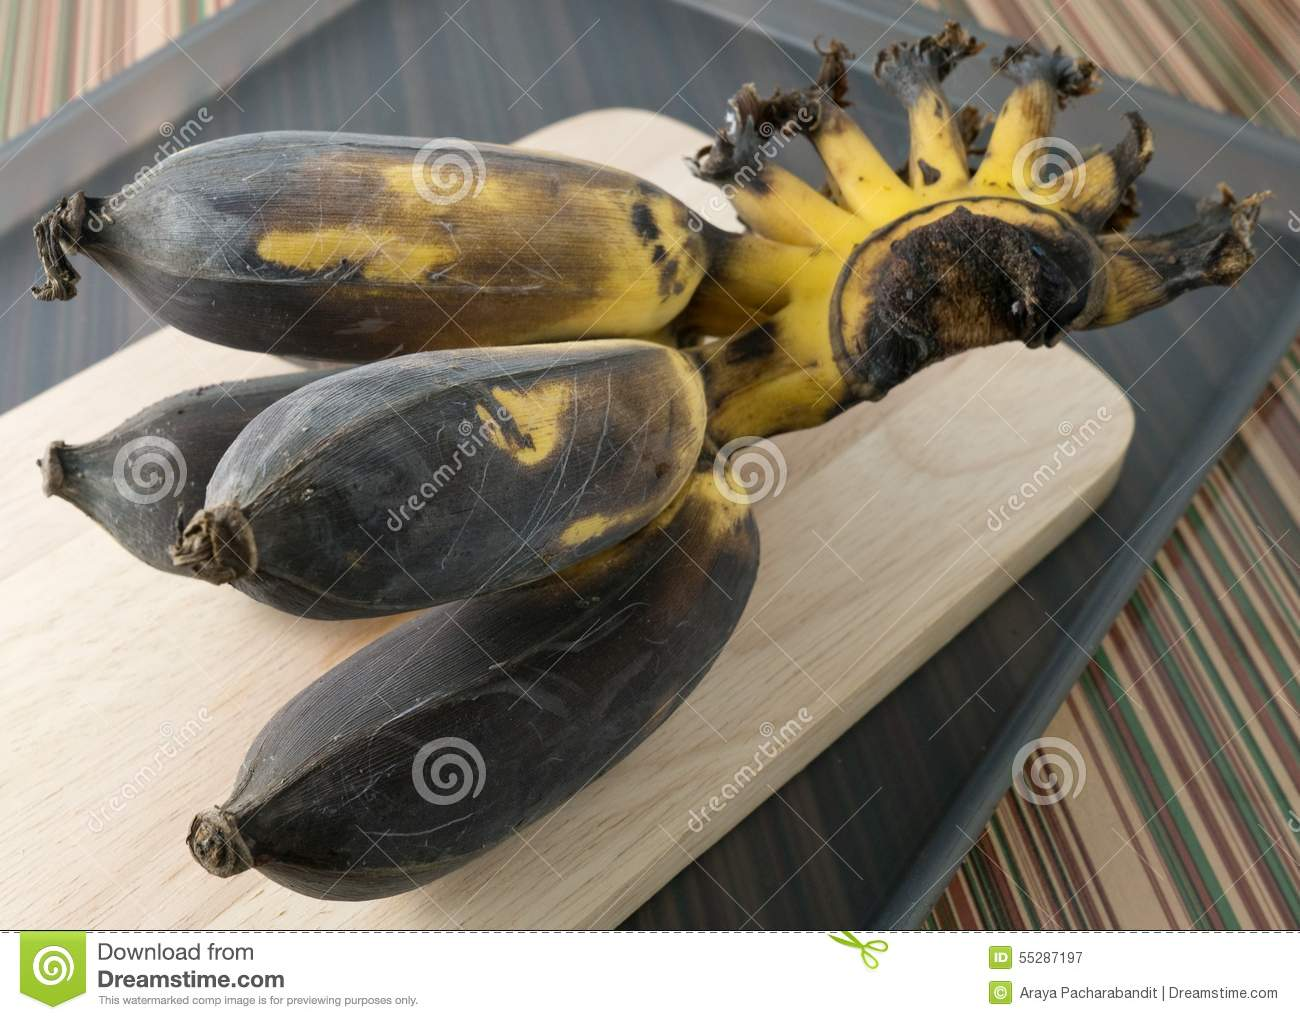looks_defective: (25, 82, 1264, 873)
